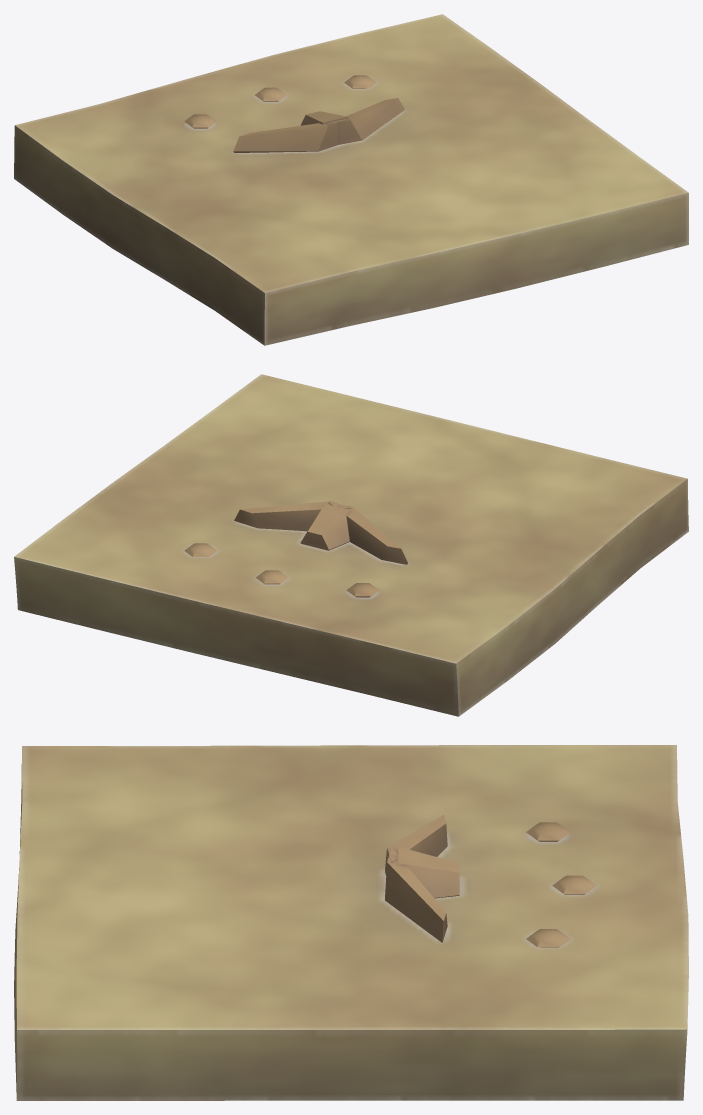
File: footprint.glb
The picture shows the model from 3 angles, top to bottom: view 1: azimuth 30°, elevation 25°; view 2: azimuth 150°, elevation 25°; view 3: azimuth 270°, elevation 25°; orthographic projection. The views are drawn at different scales.
Visible parts, largest first — view 1: SM_Footprint; view 2: SM_Footprint; view 3: SM_Footprint.
Part boxes in pixels (x1,y1,x2,y2): SM_Footprint: (14, 14, 688, 345); SM_Footprint: (14, 374, 688, 716); SM_Footprint: (14, 745, 688, 1100).
Size of the model in its own units: 0.6134 by 0.1067 by 0.6025.
2 materials, 2 textured.
